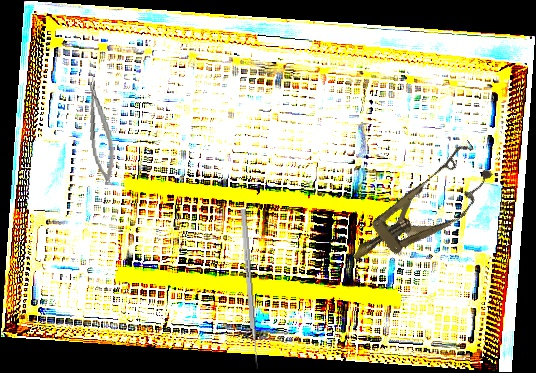Needle Holder: (82, 75, 119, 187)
Pusher: (240, 209, 260, 369)
Speculum: (336, 138, 503, 283)
